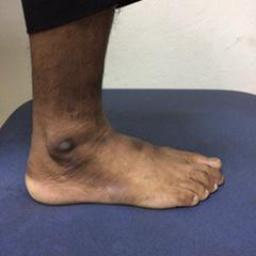Lateral View -Right Foot-: (18, 88, 233, 220)
